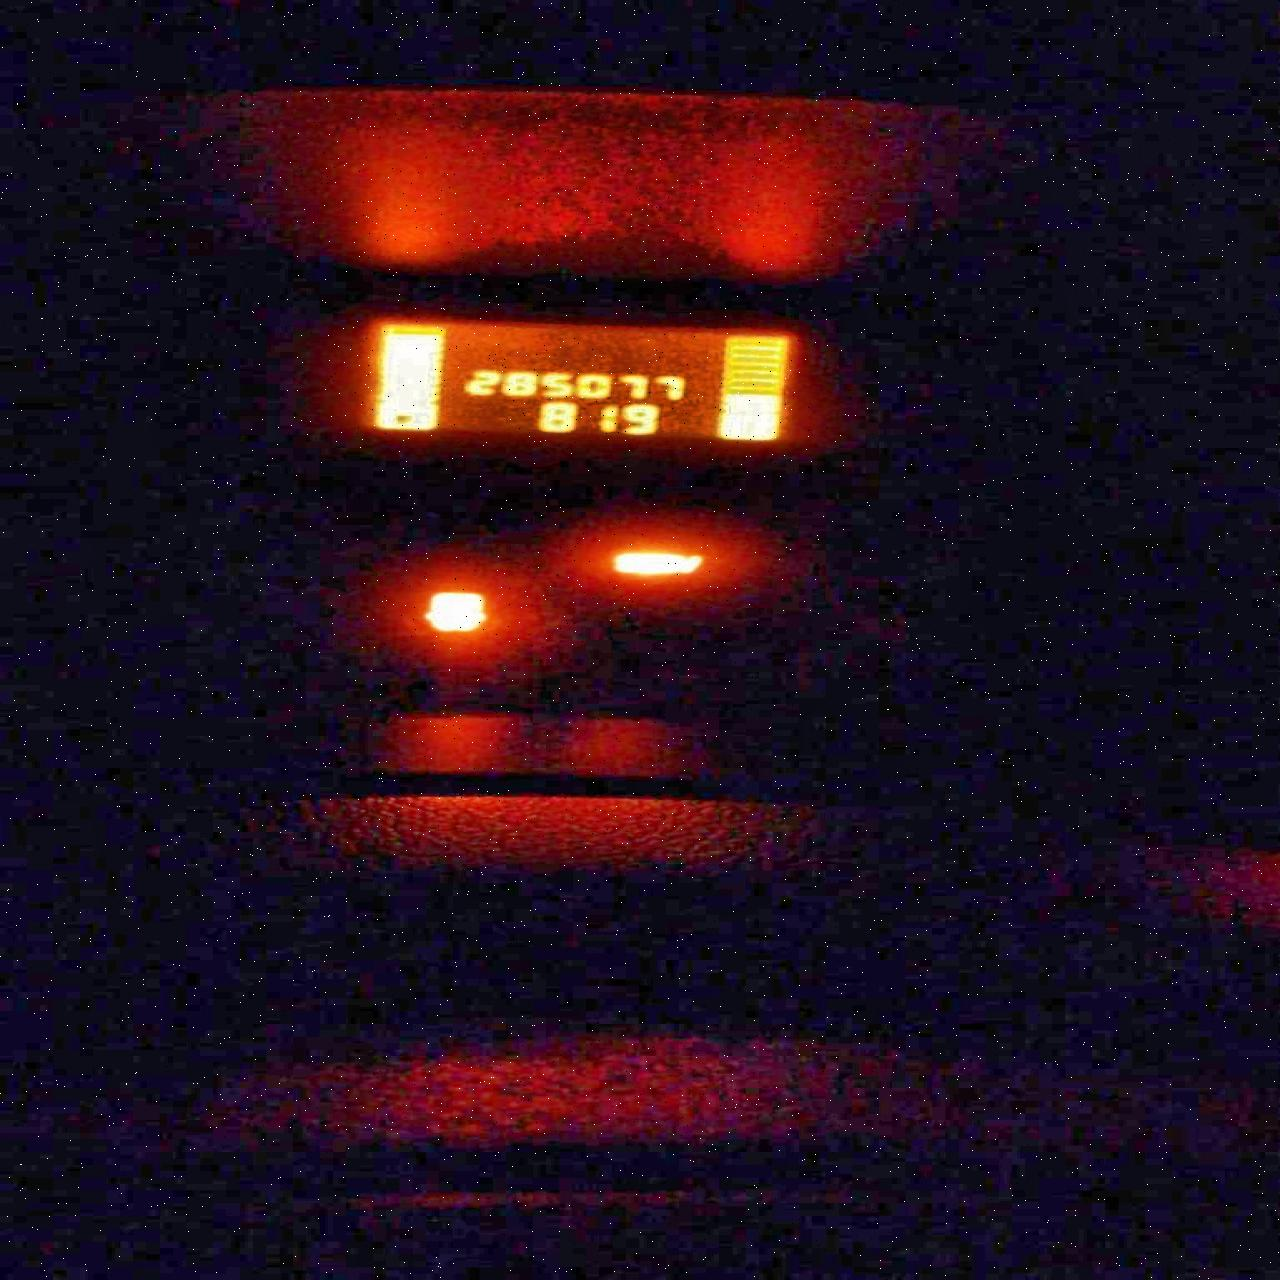0: (574, 373, 613, 399)
1: (595, 404, 618, 434)
2: (461, 369, 499, 395)
5: (539, 372, 573, 397)
7: (651, 374, 686, 400), (618, 374, 649, 400)
8: (535, 401, 579, 433), (499, 370, 538, 396)
9: (618, 402, 661, 436)
odometer: (352, 315, 805, 445)
